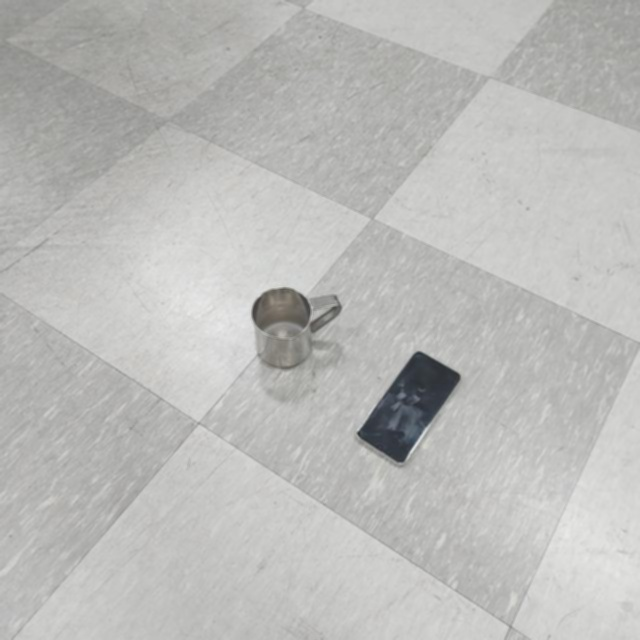cup: (250, 287, 342, 369)
phone: (355, 349, 464, 464)
